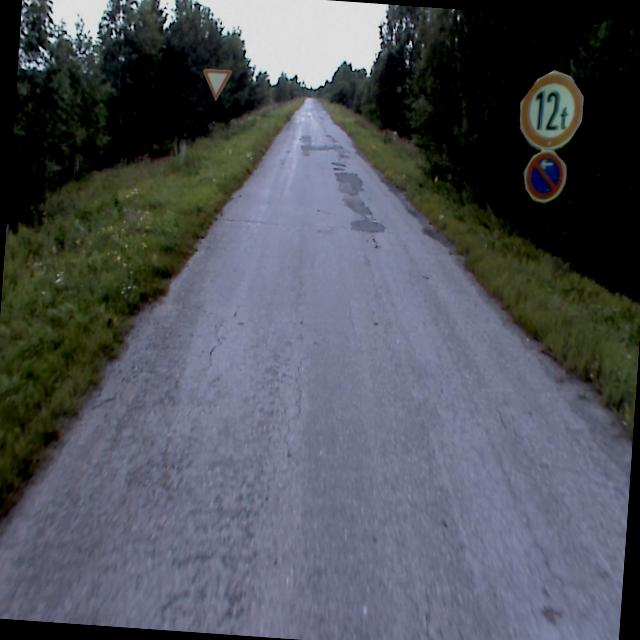road: (0, 97, 629, 640)
